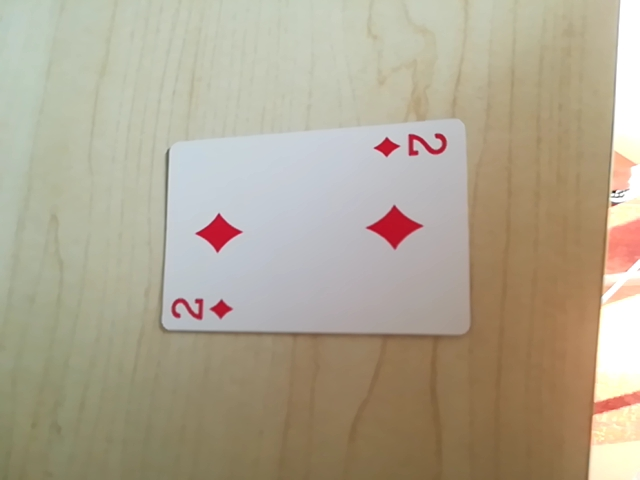fk 2: (372, 125, 452, 163), (166, 292, 238, 327), (613, 160, 638, 203)
